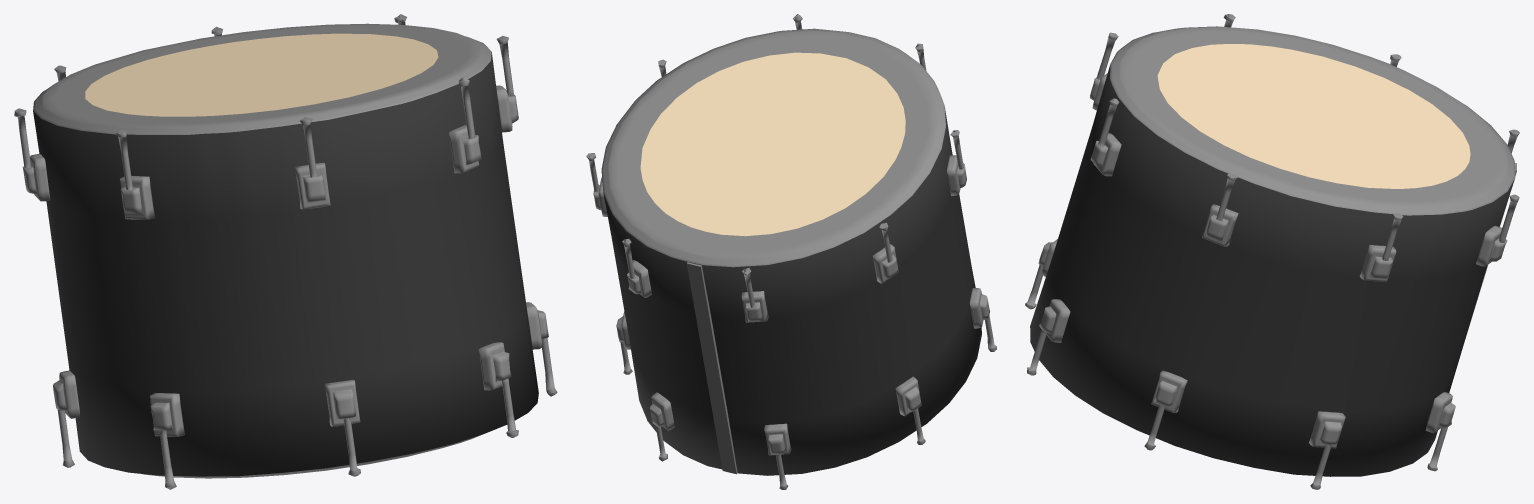
Rendered from SM_DrumKit_V1_tom_1.FBX.
The picture shows the model from 3 angles, left to right: view 1: azimuth 30°, elevation 25°; view 2: azimuth 150°, elevation 25°; view 3: azimuth 270°, elevation 25°; orthographic projection. The views are drawn at different scales.
Parts seen in each view (by area): view 1: SM_DrumKit_V1_tom_1; view 2: SM_DrumKit_V1_tom_1; view 3: SM_DrumKit_V1_tom_1.
Part boxes in pixels (x1,y1,x2,y2): SM_DrumKit_V1_tom_1: [14, 14, 557, 489]; SM_DrumKit_V1_tom_1: [586, 14, 996, 489]; SM_DrumKit_V1_tom_1: [1025, 14, 1519, 489].
Size of the model in its own units: 28.67 by 36.31 by 30.51.
